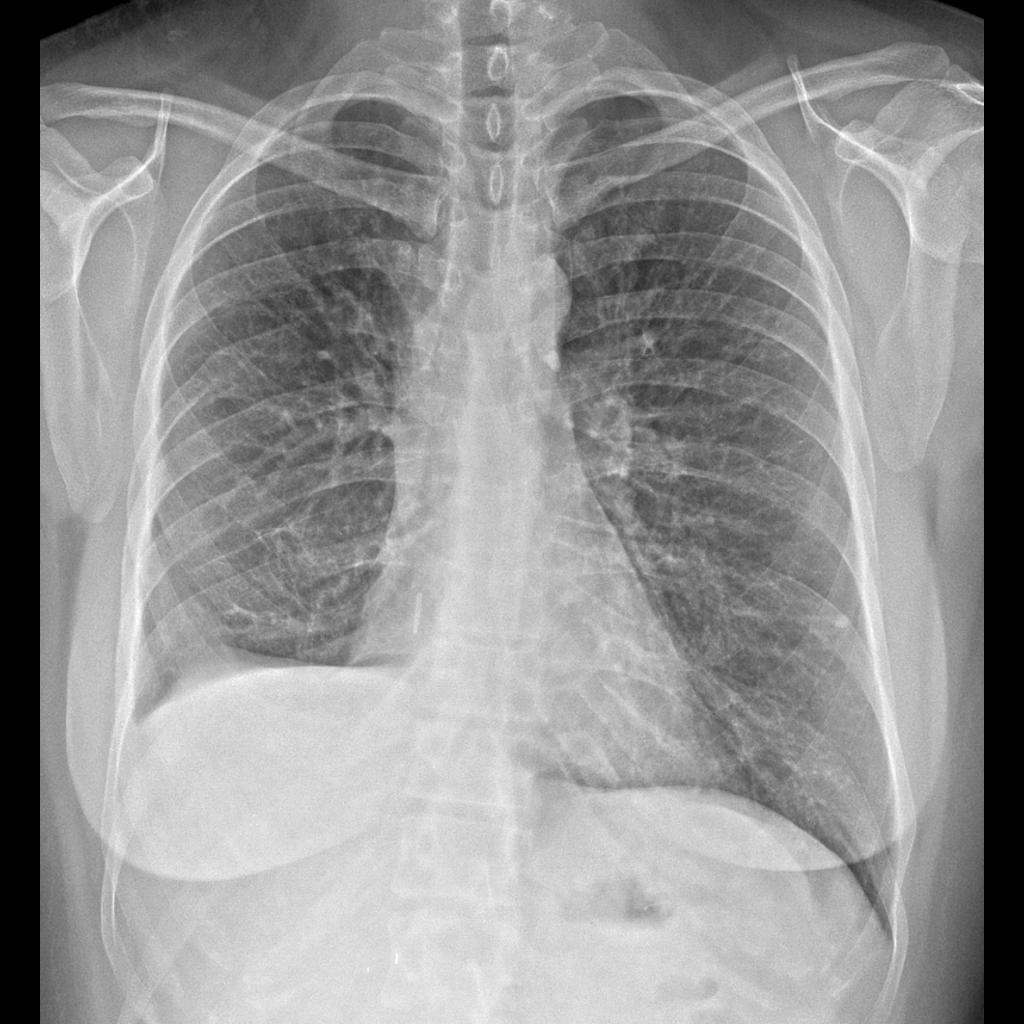Nodule: (834, 617, 853, 635)
